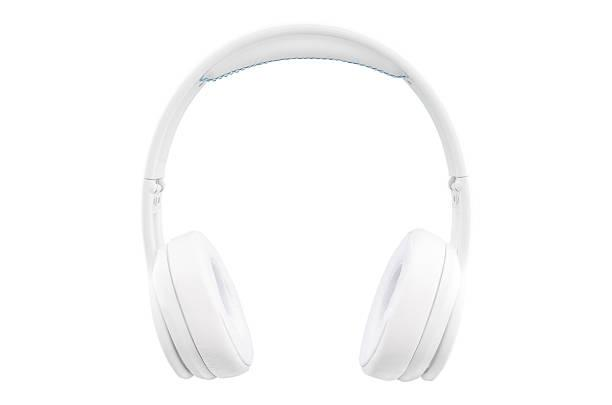headphone: (141, 24, 484, 394)
